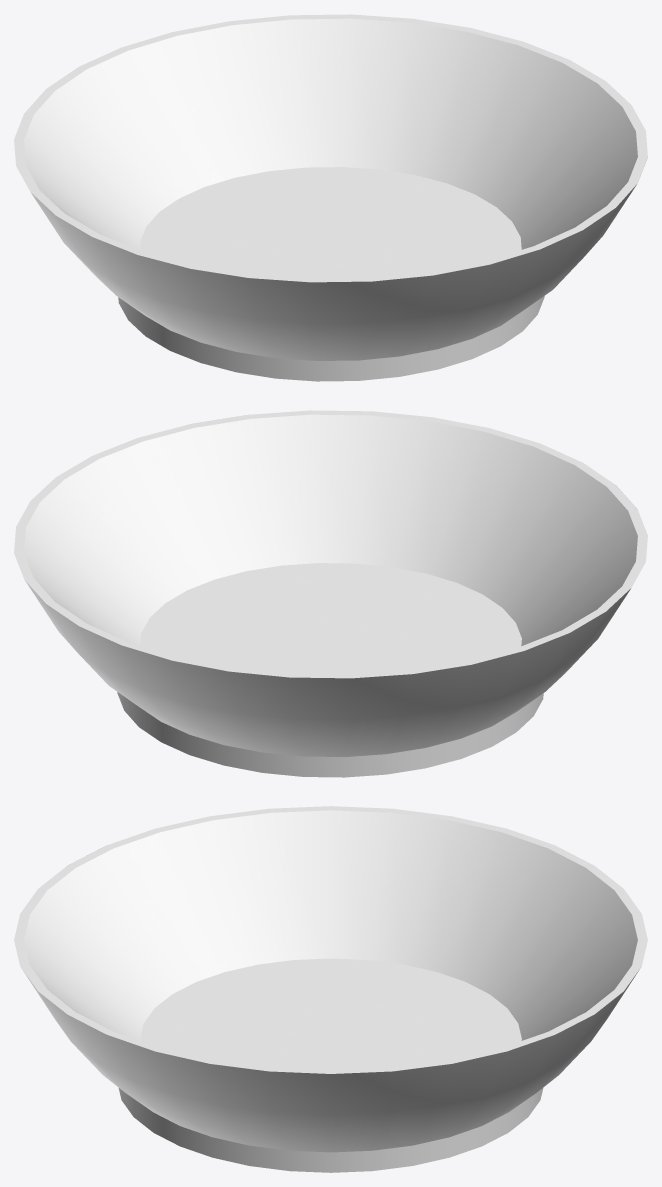
The model's file is Kitchen Bowl.008.fbx.
3 views of the same model, one above another, from view 1: azimuth 30°, elevation 25°; view 2: azimuth 150°, elevation 25°; view 3: azimuth 270°, elevation 25° (orthographic).
Visible parts, largest first — view 1: Kitchen Bowl.008_Baked; view 2: Kitchen Bowl.008_Baked; view 3: Kitchen Bowl.008_Baked.
Part boxes in pixels (bbox=[...]): Kitchen Bowl.008_Baked: bbox=[14, 14, 647, 381]; Kitchen Bowl.008_Baked: bbox=[14, 410, 647, 777]; Kitchen Bowl.008_Baked: bbox=[14, 806, 647, 1172].
Bounding box in the file's own units: 19.68 × 4.88 × 19.68.
1 material, 1 textured.
